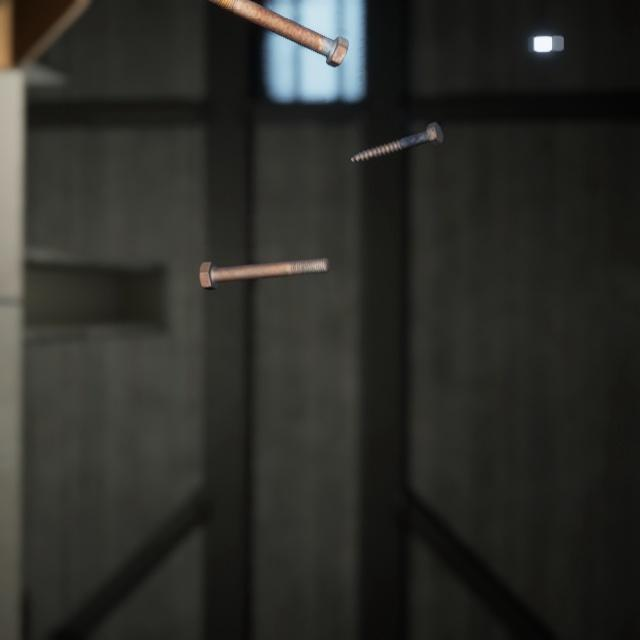bolt: (218, 0, 353, 63), (194, 236, 334, 277), (346, 105, 447, 153)
